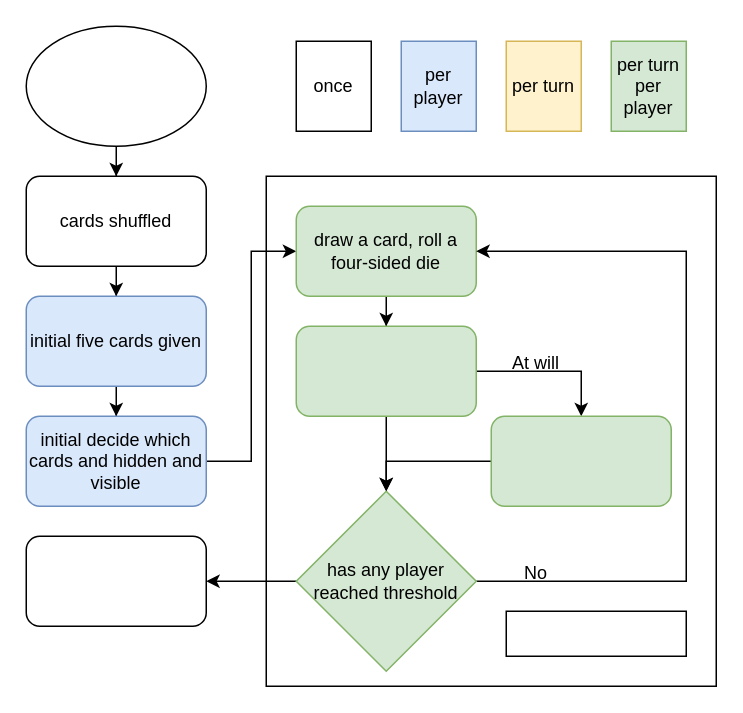
Image size: 743x713. Some labels were removed from this diagram. Each missing label, with the centre of its shape:
"begin second phase" belongs at pixel 115 580.
"decide whether you wish to keep or discard the card" belongs at pixel 385 370.
"execute any of the cumulated action cards" belongs at pixel 580 460.
"first phase" belongs at pixel 595 633.
"start" belongs at pixel 115 85.
